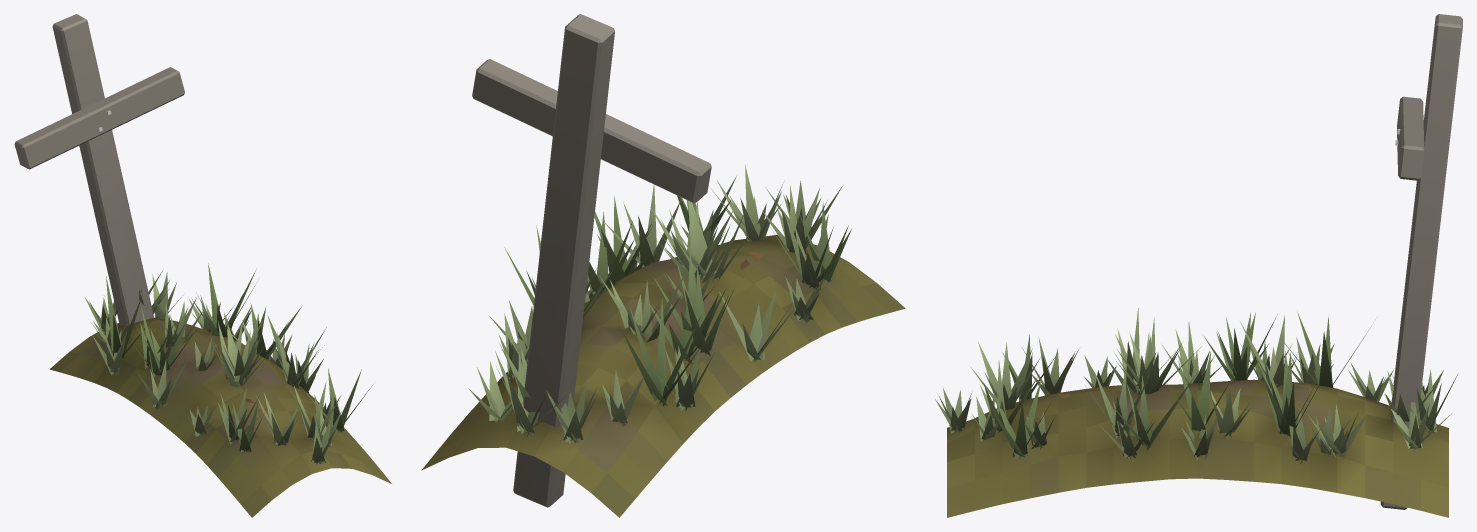
Rendered from marker_cross.glb.
The picture shows the model from 3 angles, left to right: view 1: azimuth 30°, elevation 25°; view 2: azimuth 150°, elevation 25°; view 3: azimuth 270°, elevation 25°; orthographic projection. The views are drawn at different scales.
Visible parts, largest first — view 1: marker_cross; view 2: marker_cross; view 3: marker_cross.
Part boxes in pixels (x1,y1,x2,y2): marker_cross: (14, 14, 391, 517); marker_cross: (421, 14, 905, 517); marker_cross: (934, 14, 1462, 517).
Bounding box in the file's own units: 1.03 × 1.84 × 1.93.
